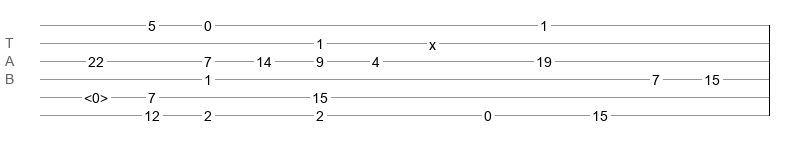0: (204, 18, 212, 28), (484, 108, 492, 118)
1: (204, 72, 212, 82), (316, 36, 324, 46), (540, 18, 548, 28)
12: (144, 108, 160, 118)
14: (256, 54, 272, 64)
15: (312, 90, 328, 100), (592, 108, 608, 118), (704, 72, 720, 82)
19: (536, 54, 552, 64)
2: (204, 108, 212, 118), (316, 108, 324, 118)
22: (88, 54, 104, 64)
4: (372, 54, 380, 64)
5: (148, 18, 156, 28)
7: (148, 90, 156, 100), (204, 54, 212, 64), (652, 72, 660, 82)
9: (316, 54, 324, 64)
harmonic: (84, 90, 108, 100)
x: (429, 37, 436, 45)
